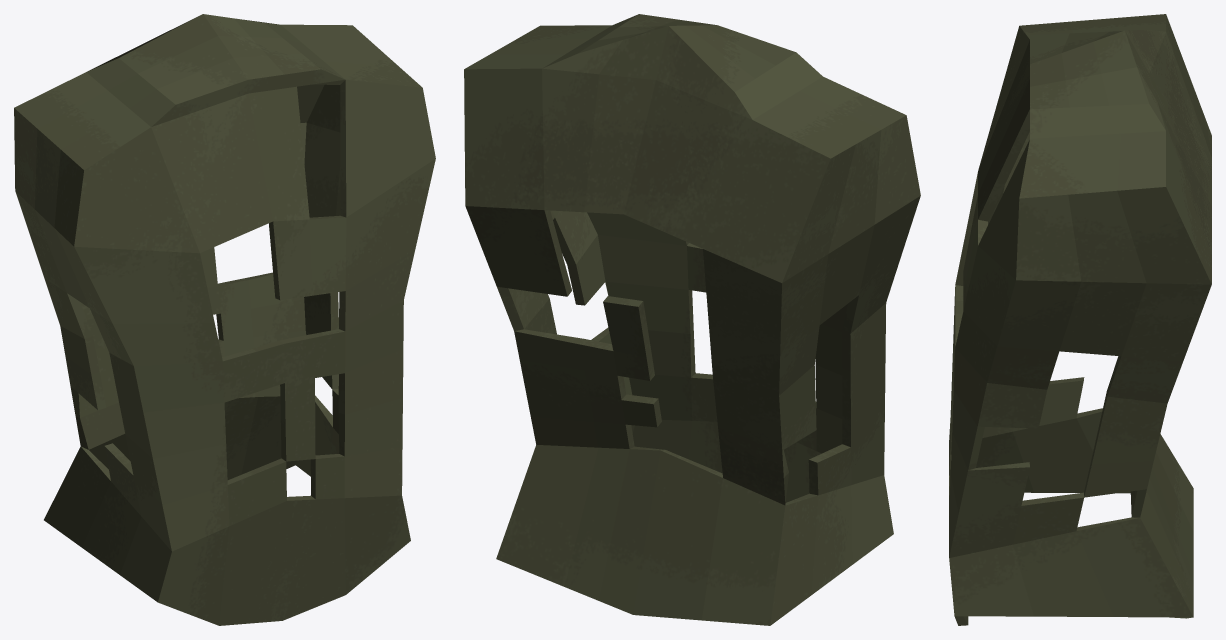
File: olinbeartorso.glb
The picture shows the model from 3 angles, left to right: view 1: azimuth 30°, elevation 25°; view 2: azimuth 150°, elevation 25°; view 3: azimuth 270°, elevation 25°; orthographic projection. The views are drawn at different scales.
Parts seen in each view (by area): view 1: AnimatronicTorso; view 2: AnimatronicTorso; view 3: AnimatronicTorso.
Boxes of the visible parts, box(x1,y1,x2,y2) form: AnimatronicTorso: box(14, 14, 435, 625); AnimatronicTorso: box(464, 14, 920, 625); AnimatronicTorso: box(949, 14, 1211, 625).
Bounding box in the file's own units: 0.4826 × 0.6992 × 0.29.
Materials: 1 (1 with a texture image).
